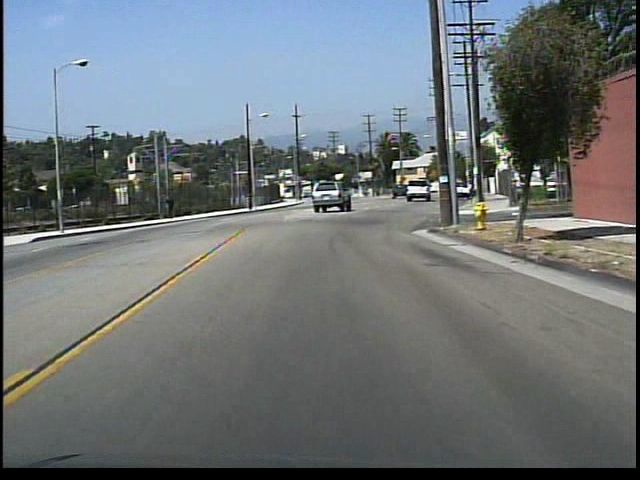person: (167, 190, 181, 219)
